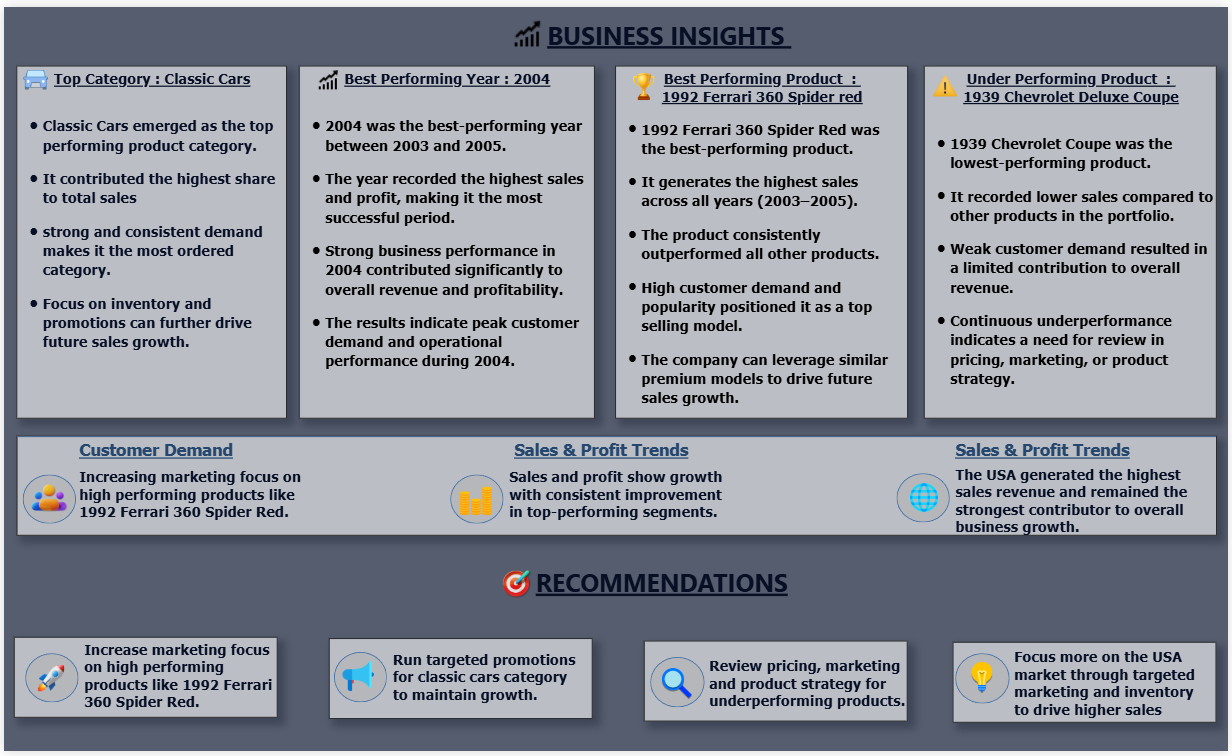

Layout of this report page (visuals, bound fields, positions):
{"tool":"powerbi","page":{"name":"Buisness Insights & Recommendtn ","canvas":[1580,960],"ordinal":1},"visuals":[{"type":"textbox","box":[137.4,10.3,1442.6,53.2],"z":0},{"type":"textbox","box":[788.3,75.6,377.8,455.1],"z":1000},{"type":"textbox","box":[1186.7,75.6,377.8,455.1],"z":2000},{"type":"textbox","box":[381.3,75.6,381.3,455.1],"z":3000},{"type":"image","box":[623.4,10.3,101.3,51.5],"z":4000},{"type":"image","box":[0,72.1,85.9,39.5],"z":5000},{"type":"textbox","box":[15.5,75.6,348.6,455.1],"z":6000},{"type":"image","box":[379.5,73.8,77.3,41.2],"z":7000},{"type":"image","box":[802,79,48.1,48.1],"z":8000},{"type":"image","box":[1191.9,79,44.7,46.4],"z":9000},{"type":"image","box":[6.9,70.4,68.7,44.7],"z":10000},{"type":"textbox","box":[128.2,716.1,1442.5,53],"z":11000},{"type":"image","box":[635.8,714.4,51.3,59.8],"z":12000},{"type":"shape","box":[15.5,553,1549.1,128.8],"z":13000},{"type":"textbox","box":[92.7,553,214.7,37.8],"z":14000},{"type":"textbox","box":[92.7,590.8,360.7,87.6],"z":15000},{"type":"textbox","box":[652.6,553,247.3,37.8],"z":16000},{"type":"textbox","box":[647.5,590.8,300.5,109.9],"z":17000},{"type":"textbox","box":[1222.8,553,245.6,37.8],"z":18000},{"type":"textbox","box":[1222.8,587.3,326.3,125.4],"z":19000},{"type":"shape","box":[24,602.8,68.7,63.5],"z":20000},{"type":"shape","box":[575.3,602.8,68.7,63.5],"z":21000},{"type":"shape","box":[1152.4,601.1,68.7,63.5],"z":22000},{"type":"image","box":[18.9,601.1,77.3,63.5],"z":23000},{"type":"image","box":[566.7,608,85.9,58.4],"z":24000},{"type":"image","box":[1135.2,608,103,49.8],"z":25000},{"type":"shape","box":[13.7,813.5,340.1,104.3],"z":26000},{"type":"shape","box":[418.7,815.3,340.1,104.3],"z":27000},{"type":"shape","box":[825.5,817,340.1,104.3],"z":28000},{"type":"shape","box":[1223.7,818.7,340.1,104.3],"z":29000},{"type":"shape","box":[27.5,834.7,68.7,63.5],"z":30000},{"type":"shape","box":[834.1,839.2,70.1,64.9],"z":31000},{"type":"shape","box":[425.6,832.3,68.4,64.9],"z":32000},{"type":"shape","box":[1227.2,834.1,70.1,64.9],"z":33000},{"type":"image","box":[32.6,826.1,56.7,80.7],"z":34000},{"type":"image","box":[429,832.3,56.4,63.2],"z":35000},{"type":"image","box":[834.1,844.3,66.7,56.4],"z":36000},{"type":"textbox","box":[99.1,813.5,264.9,104.3],"z":37000},{"type":"textbox","box":[497.4,825.5,264.9,97.4],"z":38000},{"type":"textbox","box":[904.1,834.1,264.9,104.3],"z":39000},{"type":"image","box":[1225.4,837.5,71.8,54.7],"z":40000},{"type":"textbox","box":[1298.9,822.1,264.9,104.3],"z":41000}]}

Visuals, with their boxes in screenshot pixels (x1, y1, x2, y2), scaled from the page's 1580x960 canvas onto the 1232x756 screenshot:
textbox: box(107, 8, 1231, 50)
textbox: box(615, 60, 909, 418)
textbox: box(925, 60, 1220, 418)
textbox: box(297, 60, 595, 418)
image: box(486, 8, 565, 49)
image: box(0, 57, 67, 88)
textbox: box(12, 60, 284, 418)
image: box(296, 58, 356, 91)
image: box(625, 62, 663, 100)
image: box(929, 62, 964, 99)
image: box(5, 55, 59, 91)
textbox: box(100, 564, 1225, 606)
image: box(496, 563, 536, 610)
shape: box(12, 435, 1220, 537)
textbox: box(72, 435, 240, 465)
textbox: box(72, 465, 354, 534)
textbox: box(509, 435, 702, 465)
textbox: box(505, 465, 739, 552)
textbox: box(953, 435, 1145, 465)
textbox: box(953, 462, 1208, 561)
shape: box(19, 475, 72, 525)
shape: box(449, 475, 502, 525)
shape: box(899, 473, 952, 523)
image: box(15, 473, 75, 523)
image: box(442, 479, 509, 525)
image: box(885, 479, 965, 518)
shape: box(11, 641, 276, 723)
shape: box(326, 642, 592, 724)
shape: box(644, 643, 909, 726)
shape: box(954, 645, 1219, 727)
shape: box(21, 657, 75, 707)
shape: box(650, 661, 705, 712)
shape: box(332, 655, 385, 707)
shape: box(957, 657, 1012, 708)
image: box(25, 651, 70, 714)
image: box(335, 655, 378, 705)
image: box(650, 665, 702, 709)
textbox: box(77, 641, 284, 723)
textbox: box(388, 650, 594, 727)
textbox: box(705, 657, 912, 739)
image: box(956, 660, 1011, 703)
textbox: box(1013, 647, 1219, 730)
